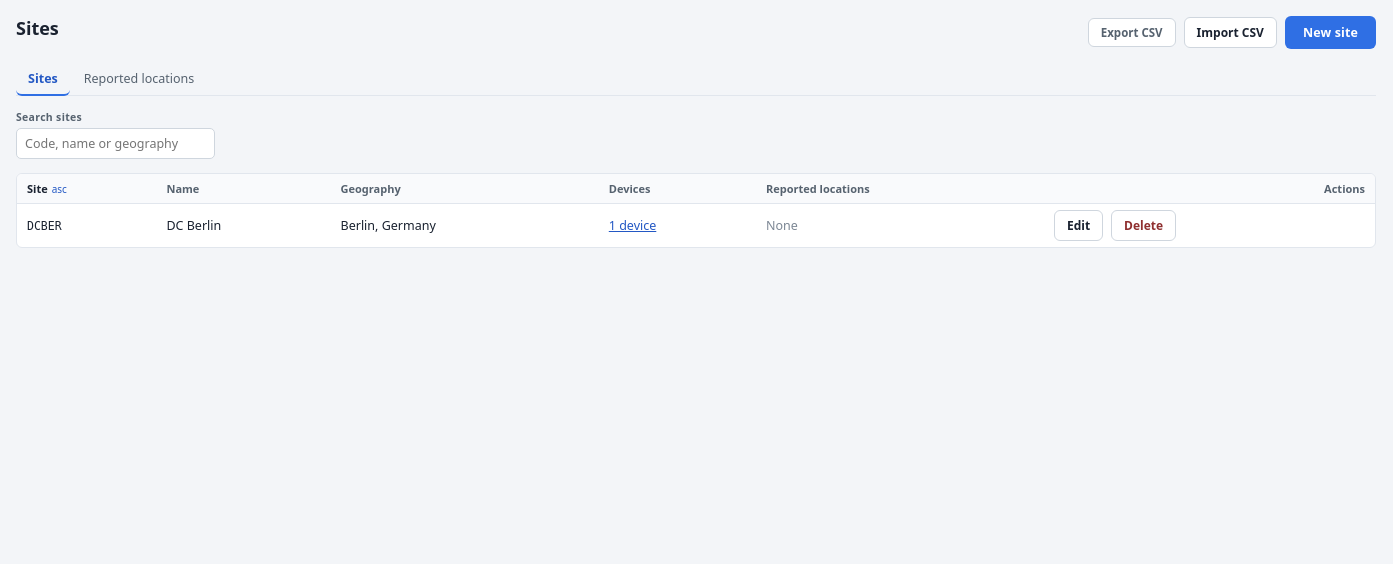
Test: site coordinates › clearing the position empties both fields
Click the button with aria-label "Edit DCBER" at (1078, 226), box [1054, 210, 1103, 241]
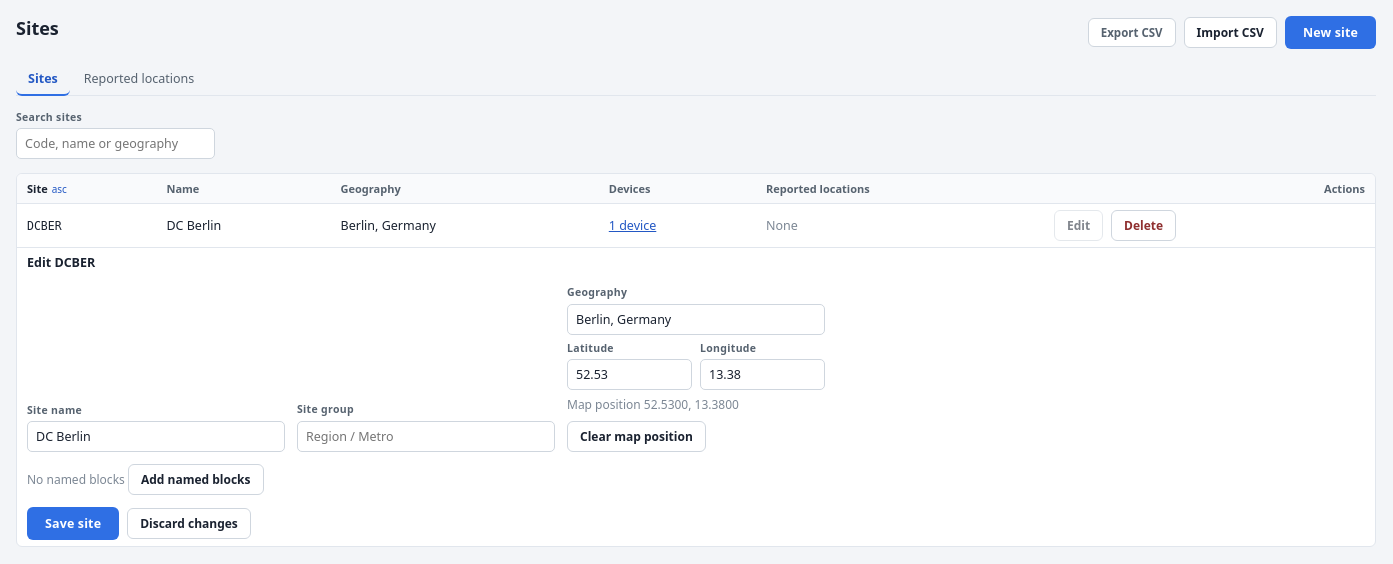
Check: the field labelled "Latitude" holds "52.53", box [567, 359, 692, 390]
Click the button "Clear map position" at (636, 436), box [567, 421, 706, 452]
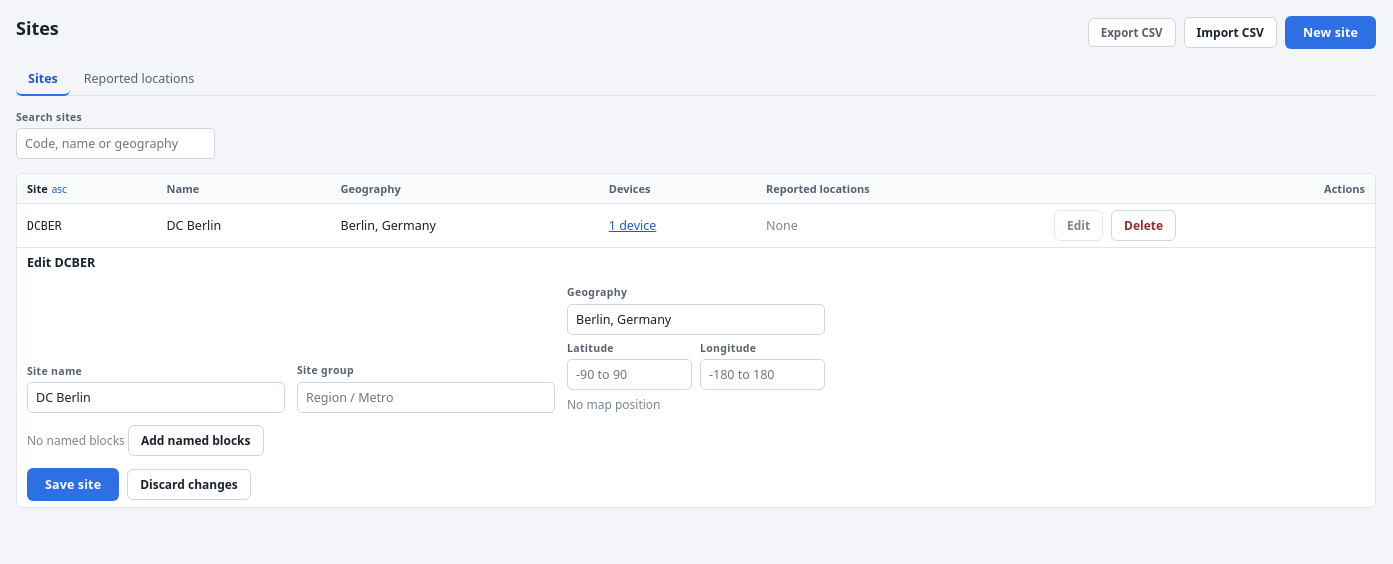
Check: the field labelled "Latitude" is empty, box [567, 359, 692, 390]
Check: the field labelled "Longitude" is empty, box [700, 359, 825, 390]
